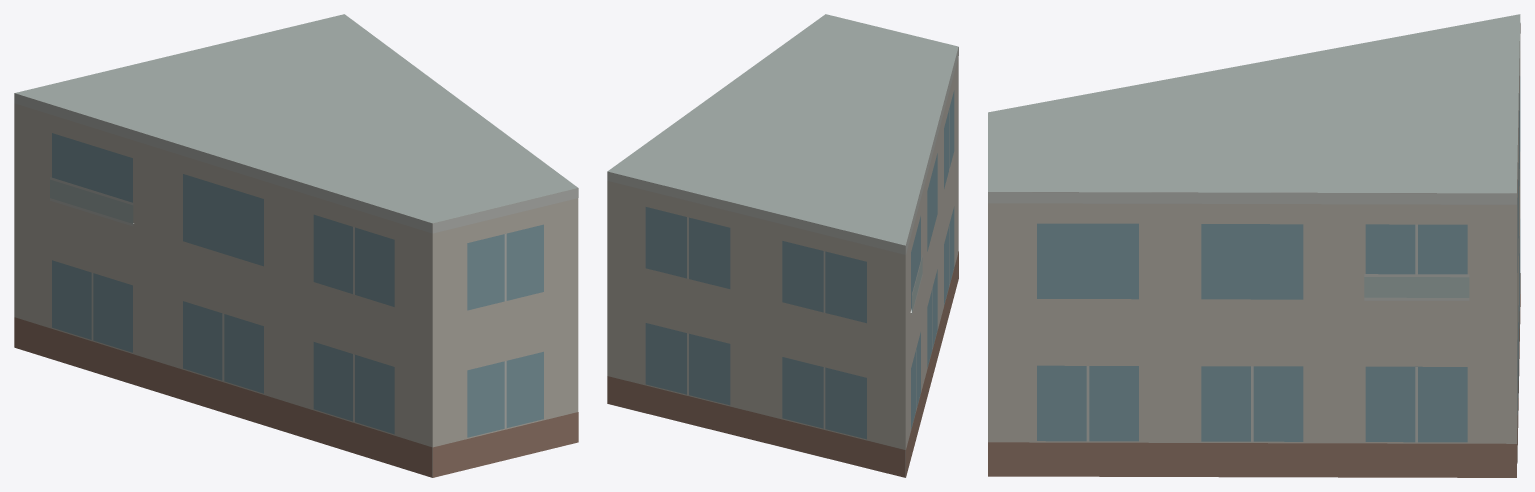
File: survey-upis-32462903.glb
3 renders of one model, left to right at view 1: azimuth 30°, elevation 25°; view 2: azimuth 150°, elevation 25°; view 3: azimuth 270°, elevation 25°, orthographic. The views are drawn at different scales.
Parts seen in each view (by area): view 1: survey-upis-32462903.tmp; view 2: survey-upis-32462903.tmp; view 3: survey-upis-32462903.tmp.
Boxes of the visible parts, x1=… form: survey-upis-32462903.tmp: x1=14, y1=14, x2=578, y2=477; survey-upis-32462903.tmp: x1=607, y1=14, x2=958, y2=477; survey-upis-32462903.tmp: x1=988, y1=14, x2=1520, y2=477.
Bounding box in the file's own units: 8.28 × 6.1 × 10.36.
